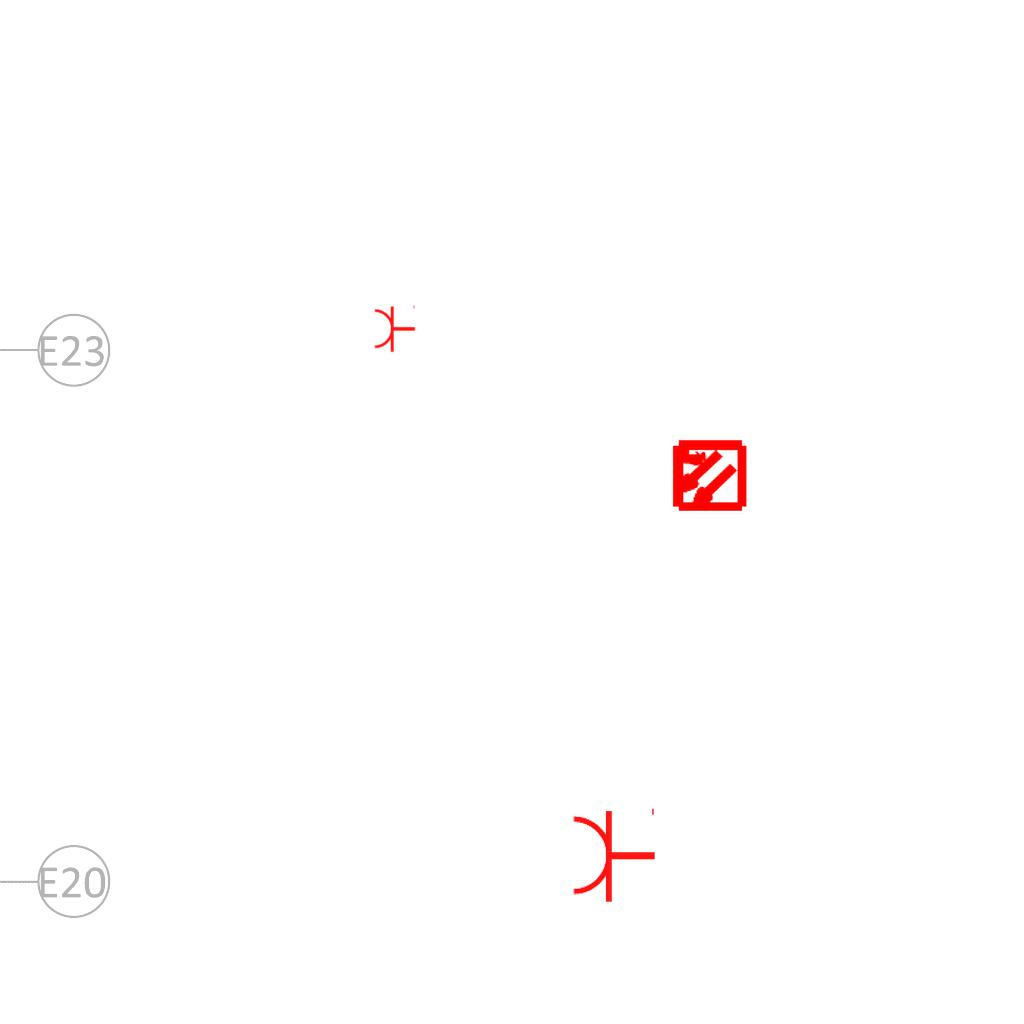OT_Multisensormelder_(Kombination_RMO_WMD): (651, 419, 764, 532)
Schukosteckdose_einfach: (570, 804, 657, 904), (373, 303, 416, 353)
